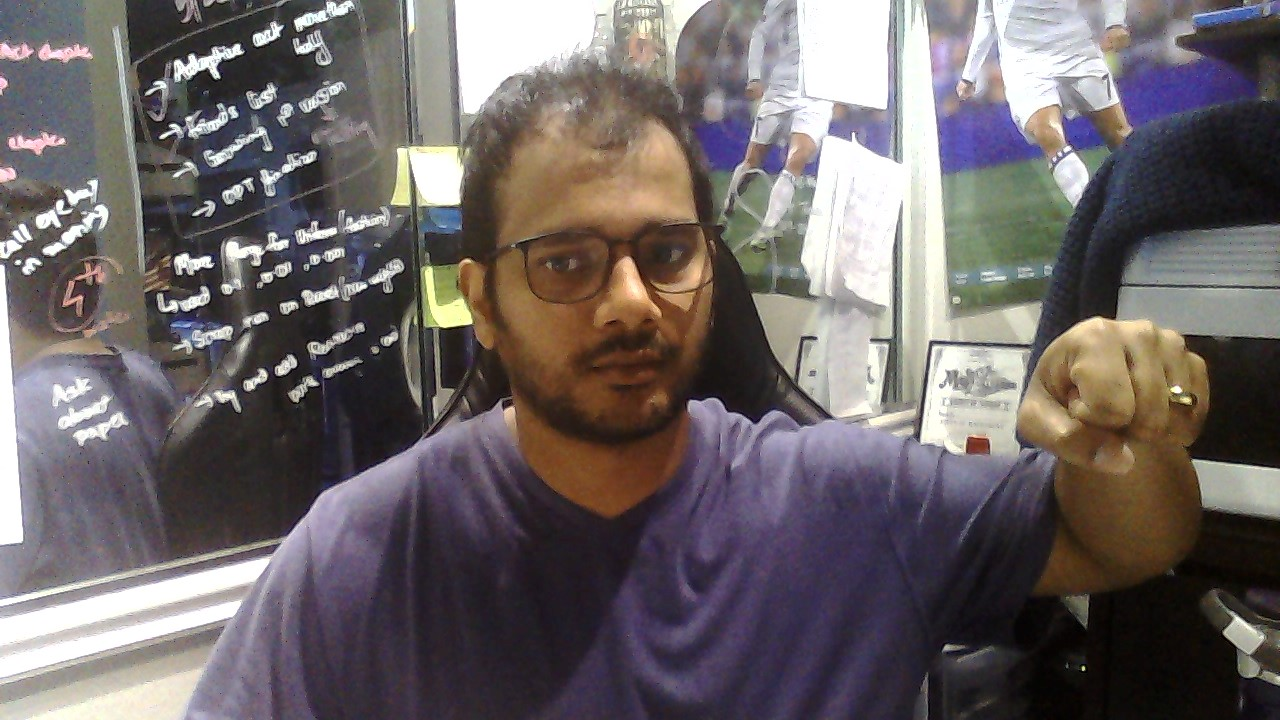Yes: (1017, 317, 1211, 476)
